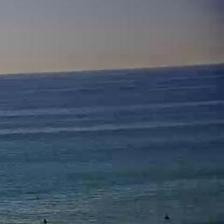surfer: (164, 215, 170, 220), (43, 219, 49, 223)
